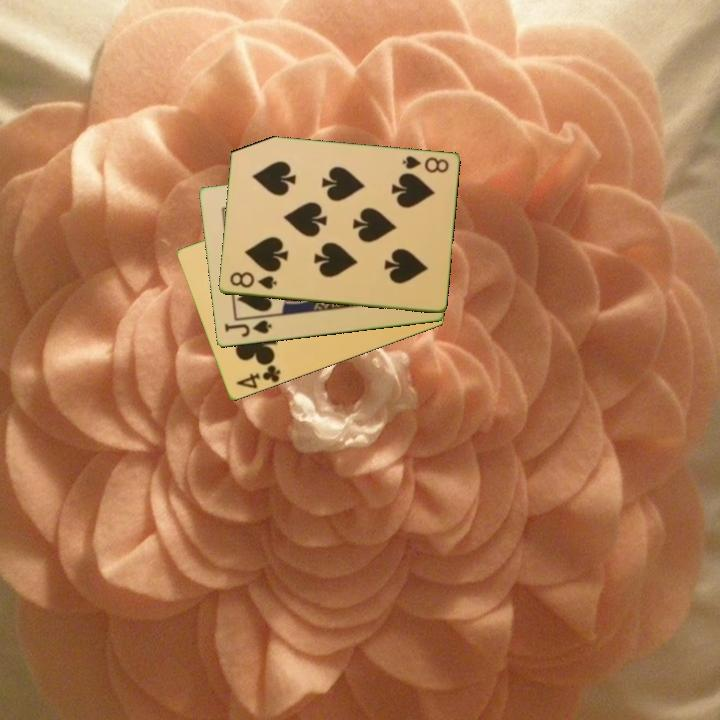4c: (232, 362, 283, 392)
8s: (398, 152, 451, 176), (226, 269, 279, 292)
Js: (221, 317, 275, 340)
